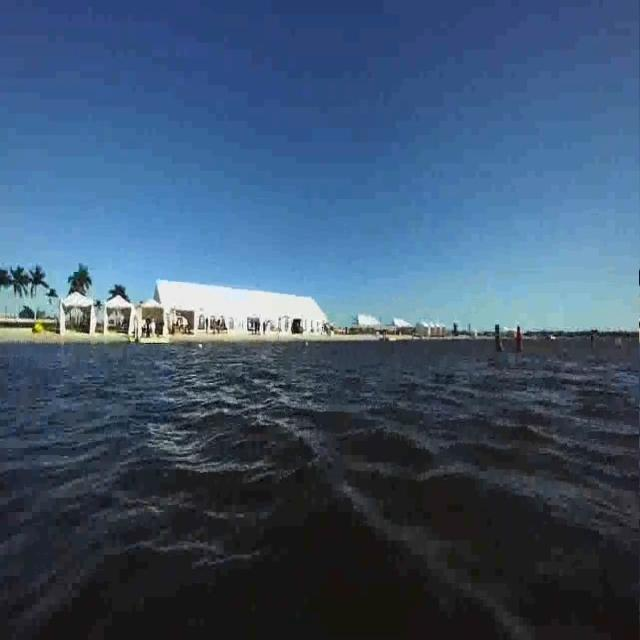red-column-buoy: (516, 324, 524, 346)
